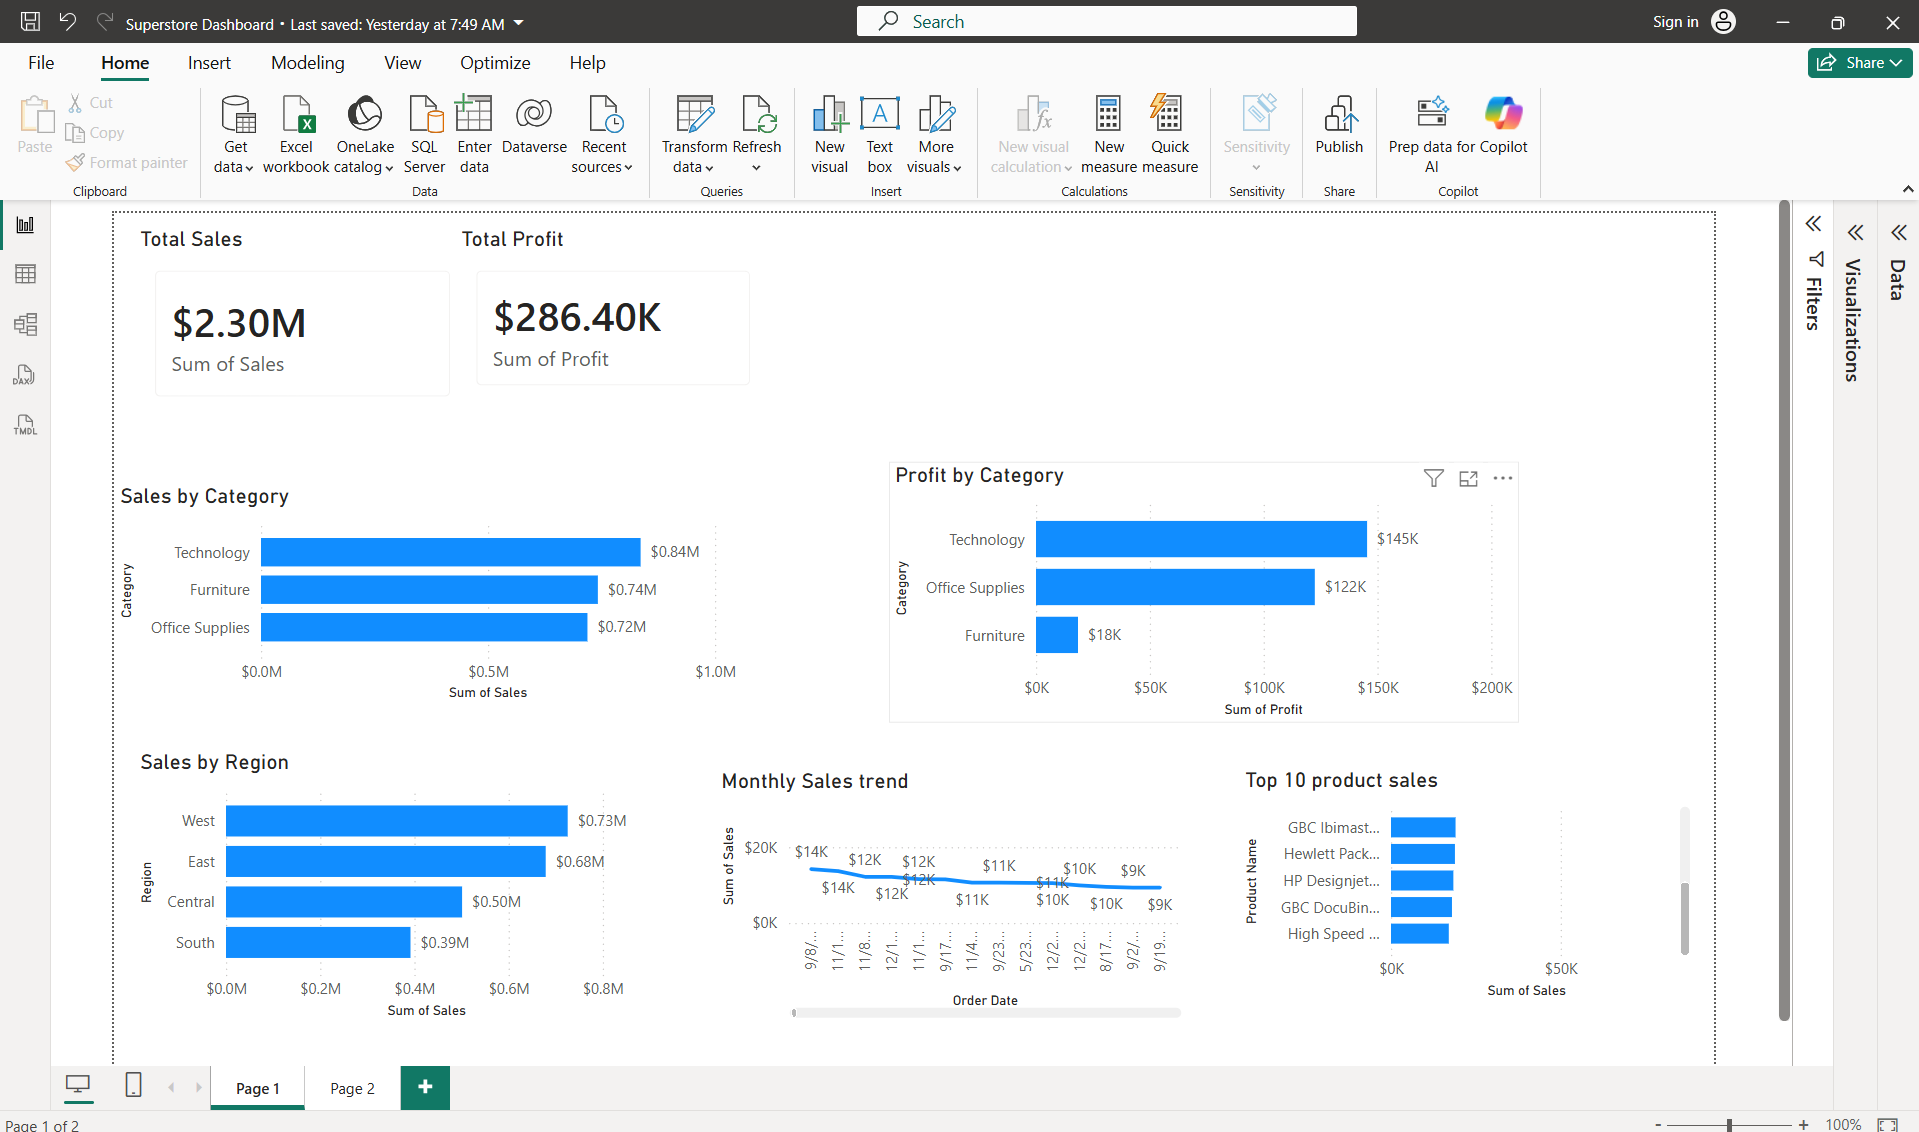

The page's visual inventory and layout, read from the dashboard file:
{"tool":"powerbi","page":{"name":"Page 1","canvas":[1280,720],"ordinal":0},"visuals":[{"type":"clusteredBarChart","title":" Sales by Category","fields":{"Category":["Sample - Superstore.Category"],"Y":["Sum(Sample - Superstore.Sales)"]},"box":[0,216.3,503.5,179.1],"z":0},{"type":"clusteredBarChart","title":"Profit by Category","fields":{"Category":["Sample - Superstore.Category"],"Y":["Sum(Sample - Superstore.Profit)"]},"box":[619.8,198.8,504.7,209.3],"z":1000},{"type":"cardVisual","title":"Total Sales","fields":{"Data":["Sum(Sample - Superstore.Sales)"]},"box":[16.3,10.5,269.8,154.7],"z":2000},{"type":"cardVisual","title":"Total Profit","fields":{"Data":["Sum(Sample - Superstore.Profit)"]},"box":[273.3,10.5,252.3,145.3],"z":2001},{"type":"clusteredBarChart","title":"Sales by Region","fields":{"Category":["Sample - Superstore.Region"],"Y":["Sum(Sample - Superstore.Sales)"]},"box":[16.3,429.1,416.3,219.8],"z":2002},{"type":"lineChart","title":"Monthly Sales trend","fields":{"Category":["Sample - Superstore.Order Date"],"Y":["Sum(Sample - Superstore.Sales)"]},"box":[481.4,444.2,377.9,204.7],"z":2003},{"type":"clusteredBarChart","title":"Top 10 product sales","fields":{"Category":["Sample - Superstore.Product Name"],"Y":["Sum(Sample - Superstore.Sales)"]},"box":[900,443,366.3,189.5],"z":2004}]}

Visuals, with their boxes on the page's 1280x720 design canvas (x1, y1, x2, y2). These are canvas units, not pixel positions in the 1919x1132 screenshot, which may show the page scaled, cropped or inside an application window:
" Sales by Category" clusteredBarChart: (left=0, top=216, right=504, bottom=395)
"Profit by Category" clusteredBarChart: (left=620, top=199, right=1124, bottom=408)
"Total Sales" cardVisual: (left=16, top=10, right=286, bottom=165)
"Total Profit" cardVisual: (left=273, top=10, right=526, bottom=156)
"Sales by Region" clusteredBarChart: (left=16, top=429, right=433, bottom=649)
"Monthly Sales trend" lineChart: (left=481, top=444, right=859, bottom=649)
"Top 10 product sales" clusteredBarChart: (left=900, top=443, right=1266, bottom=632)
